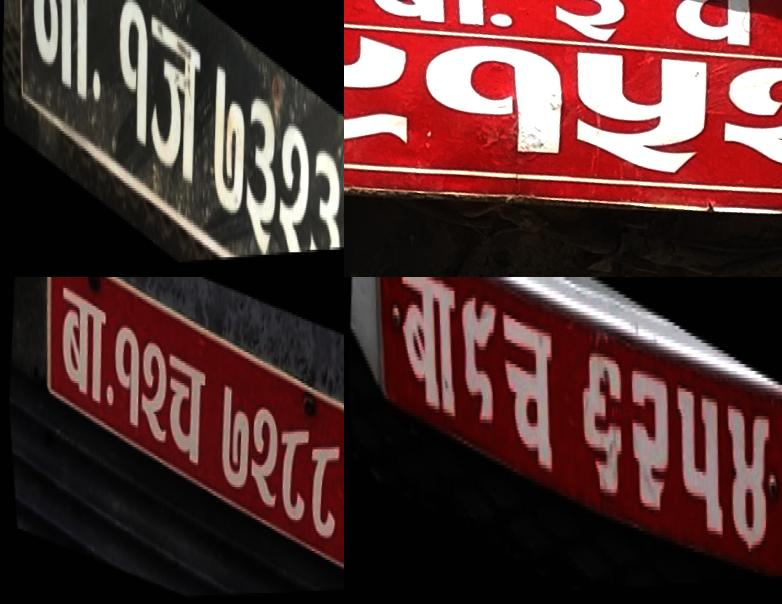1: (388, 22, 579, 189), (105, 0, 155, 173), (100, 317, 148, 436)
2: (689, 49, 782, 193), (617, 358, 678, 542), (270, 105, 314, 259), (238, 392, 286, 522), (131, 333, 175, 449)
3: (236, 78, 282, 261), (523, 0, 637, 51), (300, 128, 344, 257)
4: (662, 378, 732, 566), (713, 390, 781, 574)
5: (532, 31, 728, 198)
6: (570, 340, 630, 520)
7: (203, 45, 252, 239), (208, 383, 257, 502)
8: (265, 406, 317, 533), (296, 421, 344, 551)
9: (344, 7, 427, 168), (448, 277, 506, 453)
ba: (386, 277, 467, 435), (47, 280, 116, 417), (344, 0, 525, 50)
cha: (487, 298, 564, 493), (638, 0, 767, 63), (156, 341, 213, 475)
ja: (140, 0, 208, 212)
ka: (20, 0, 101, 130)
